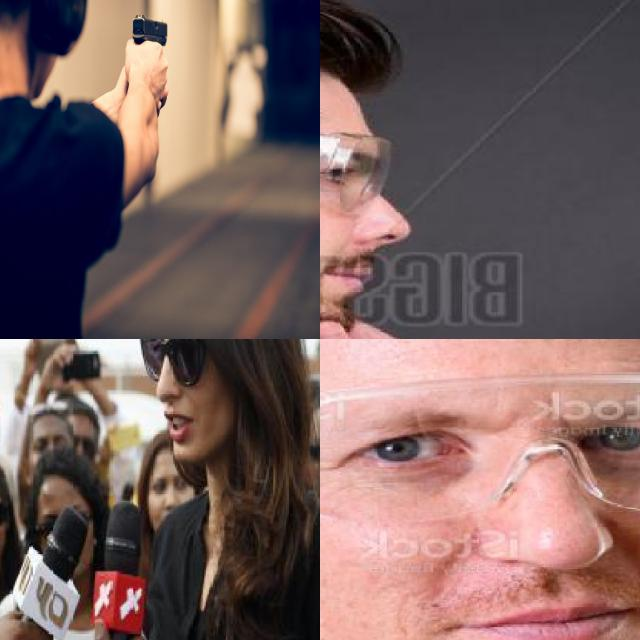Ear-protection: (0, 0, 88, 91)
face_nomask: (352, 404, 640, 640), (320, 130, 409, 316), (144, 339, 224, 456), (306, 434, 320, 496)
glasses: (123, 339, 320, 640), (320, 365, 640, 518), (320, 128, 399, 204), (134, 339, 234, 387), (303, 430, 320, 467), (0, 496, 12, 541)
hand_noglove: (0, 603, 61, 640)
head_nohelmet: (26, 441, 100, 502), (308, 380, 320, 419)
person: (320, 0, 502, 339), (0, 0, 173, 339)
